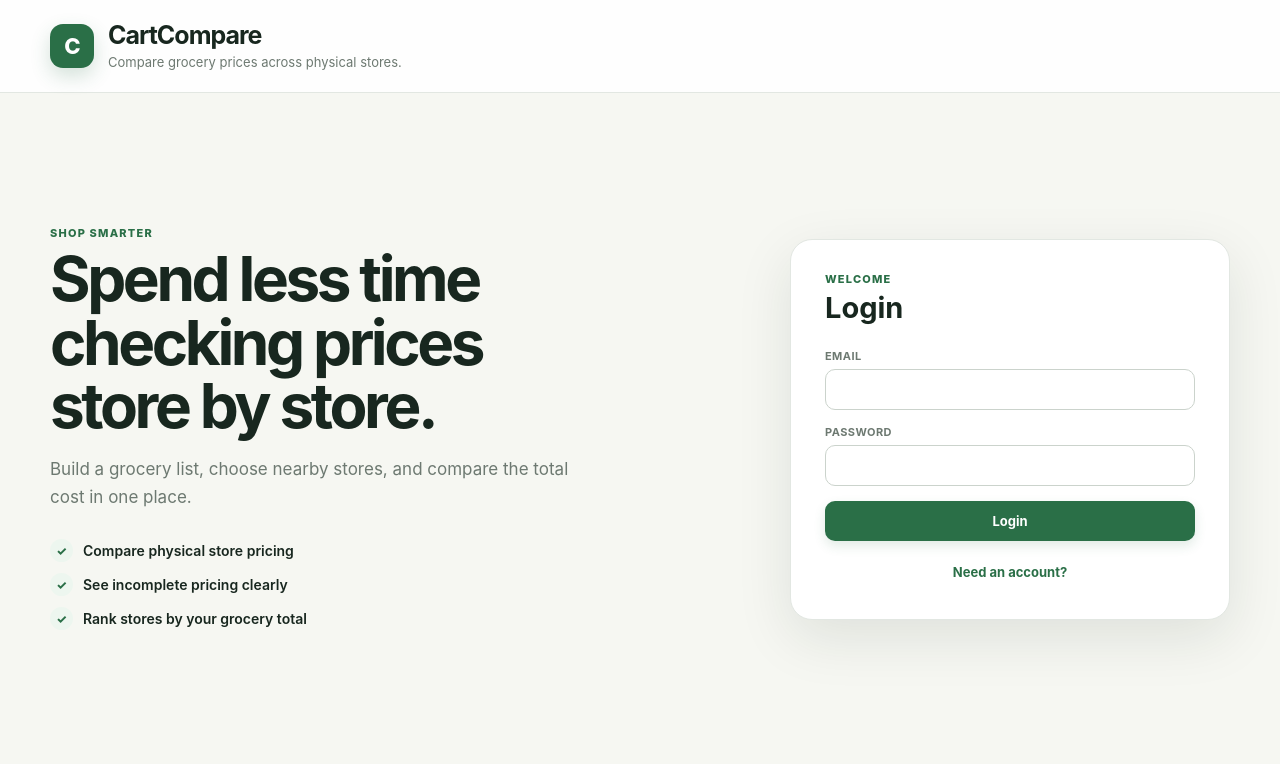
it: App authentication › logs in and loads the authenticated grocery list
This screenshot has width=1280, height=764.
In the field labelled "Email": (1010, 389) x1=825 y1=368 x2=1195 y2=410, type "katie@example.com"
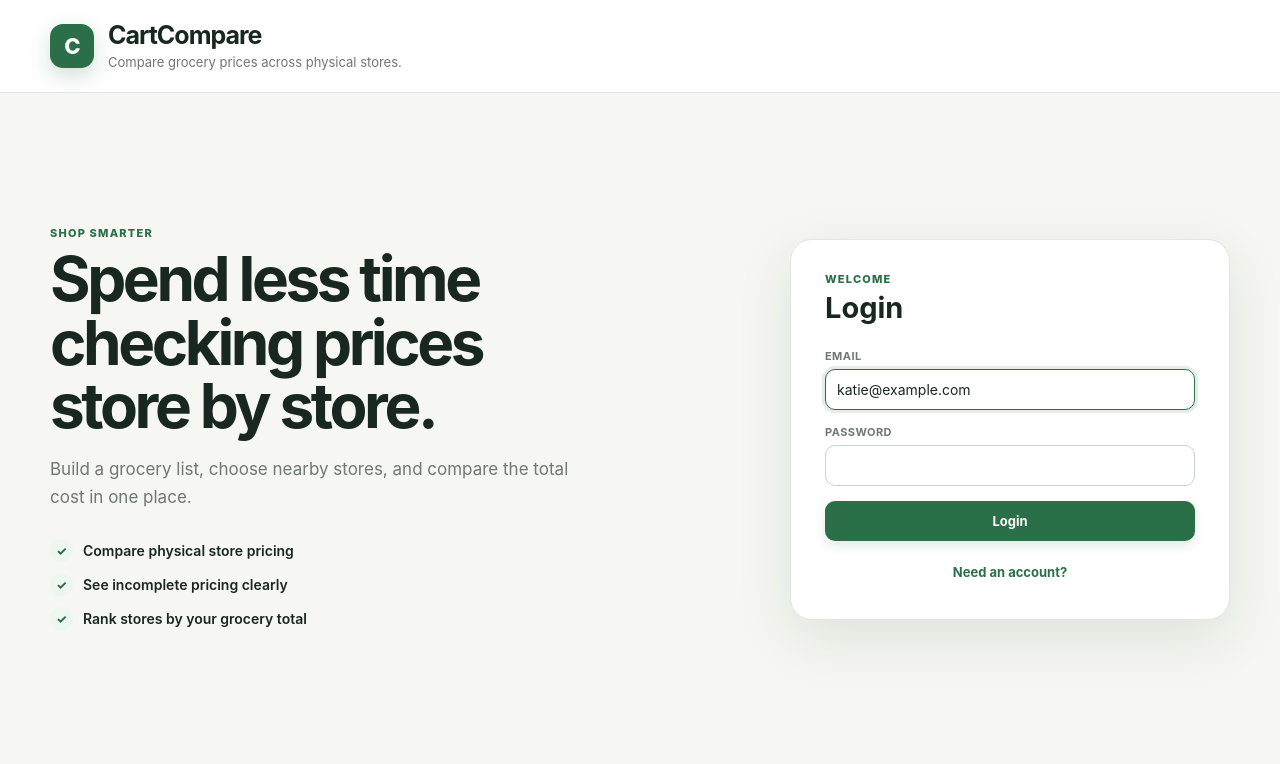
In the password field labelled "Password": (1010, 465) x1=825 y1=444 x2=1195 y2=486, type "Password123!"
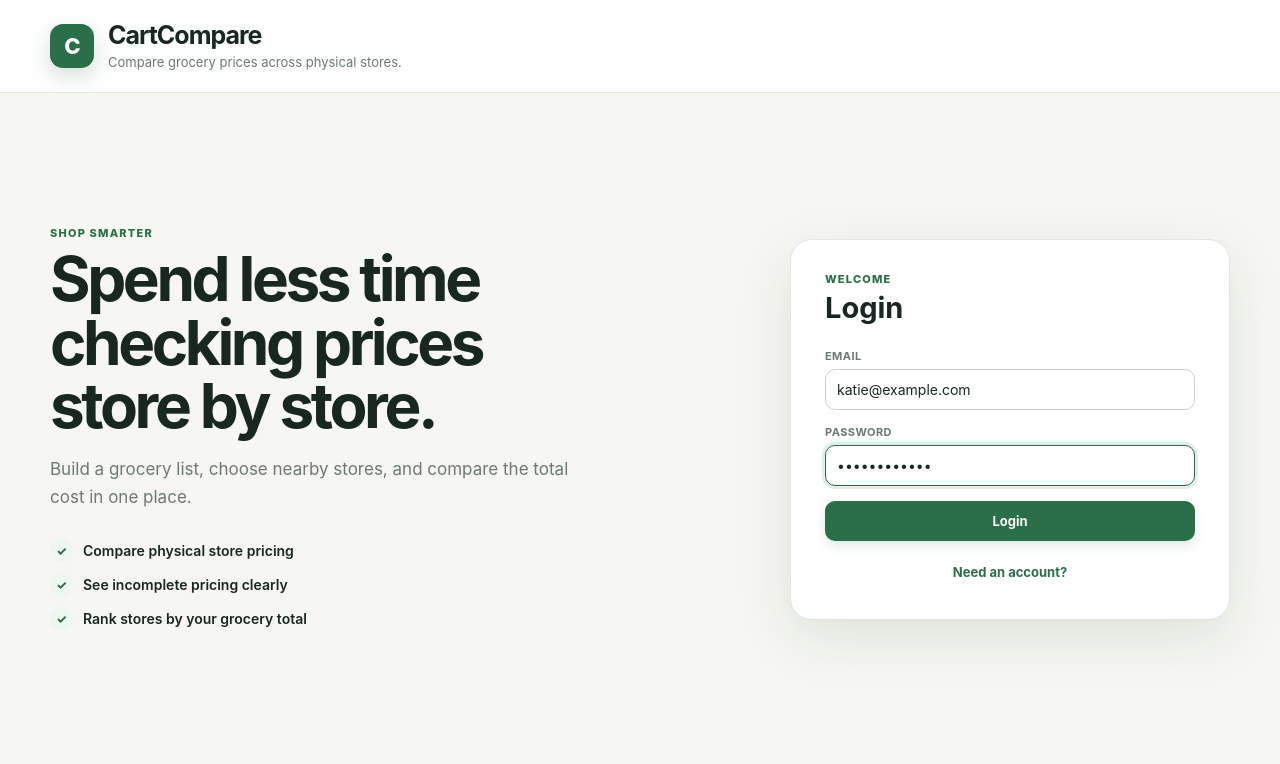
Click the button "Login": (1010, 520) x1=825 y1=500 x2=1195 y2=540
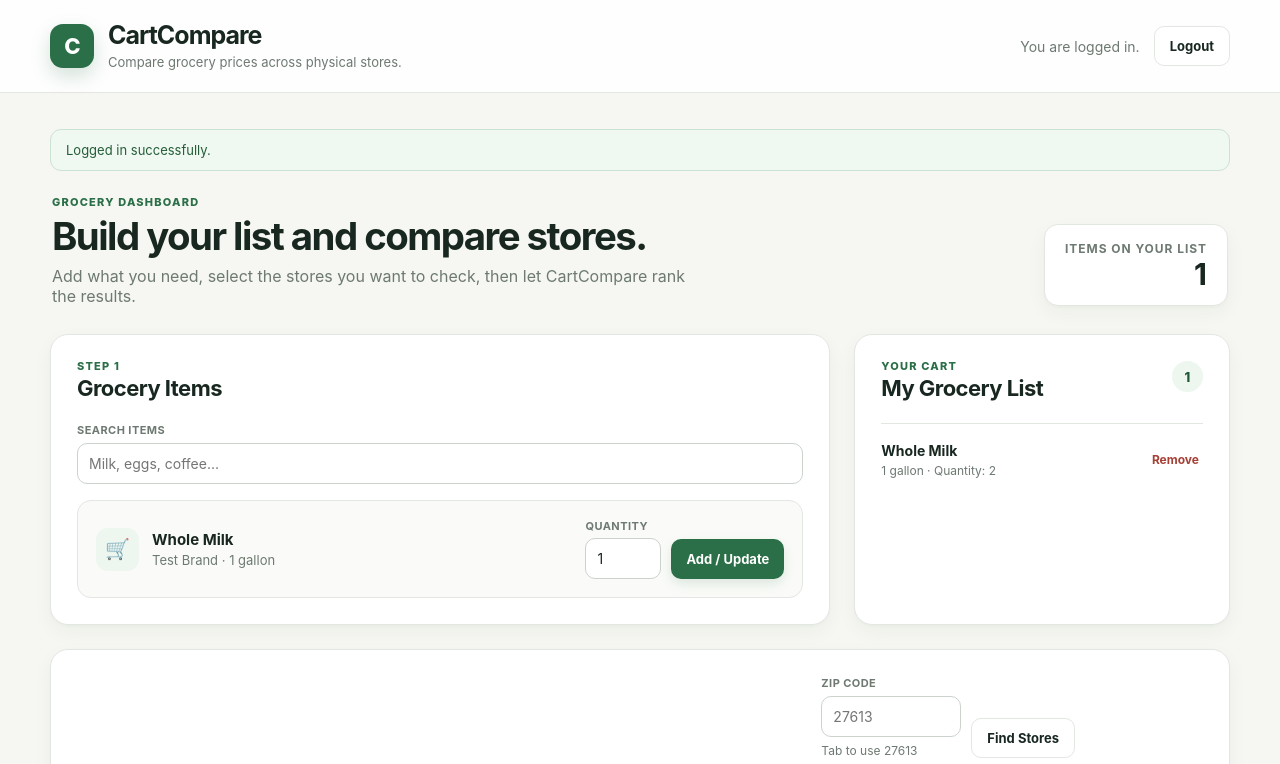
Now the text "Logged in successfully." is shown, box x1=50 y1=129 x2=1230 y2=171
Now the text "You are logged in." is shown, box x1=1020 y1=38 x2=1140 y2=54
Now the text "1 gallon · Quantity: 2" is shown, box x1=881 y1=463 x2=996 y2=478
